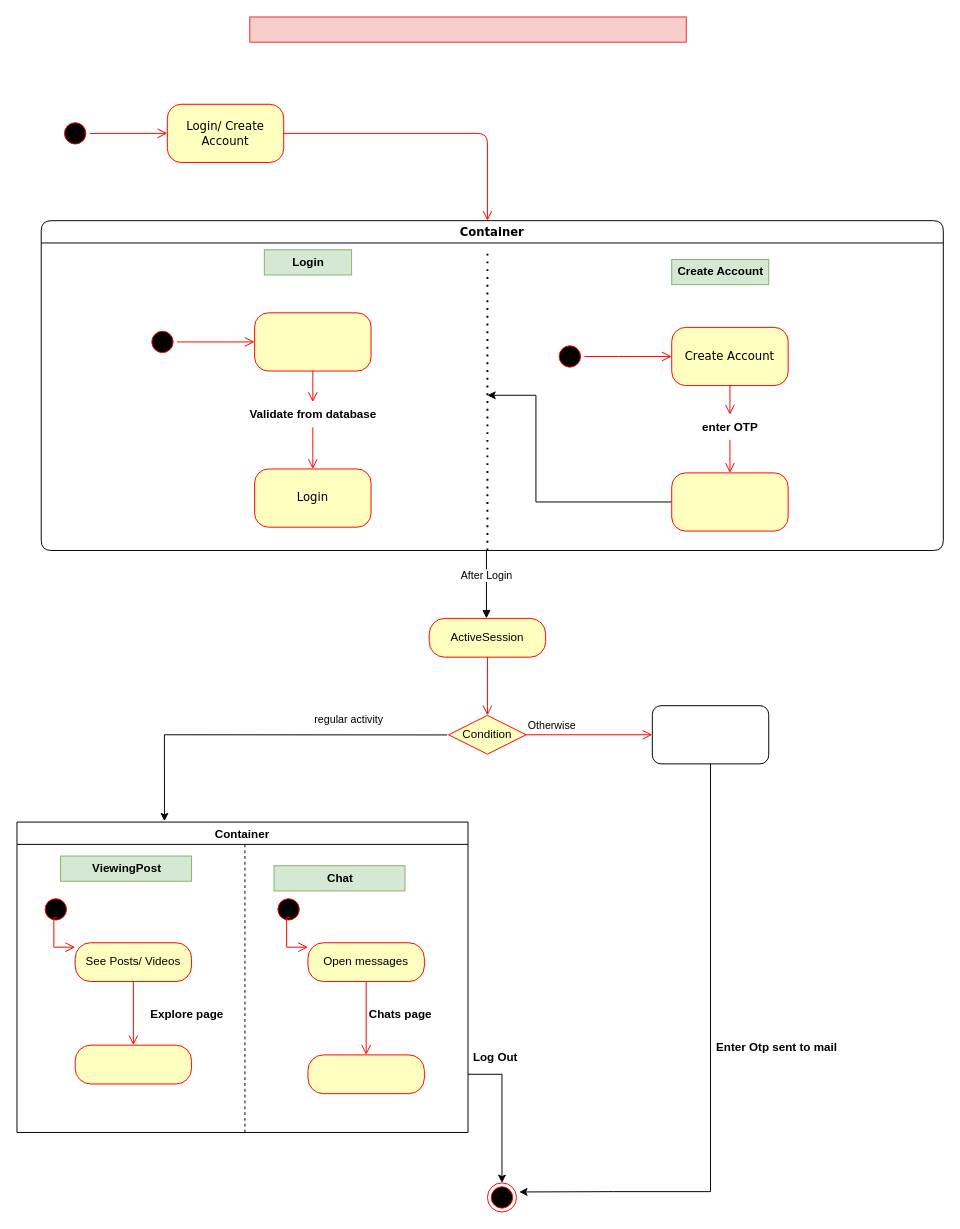
The diagram is 960 pixels wide and 1229 high, and some of its shapes have lost their labels. The shapes that lost their labels are listed below. From the top down, each one's box as (x1, y1, x2, y2) in pixels, then its label:
(249, 16, 686, 42): State Diagram - Social Media
(254, 312, 371, 371): Verify credentials
(671, 472, 788, 531): Account Created
(651, 705, 769, 764): Request account Deletion
(74, 1044, 192, 1084): Like/ comment/ share
(307, 1054, 424, 1094): Send/ Reply in chat
